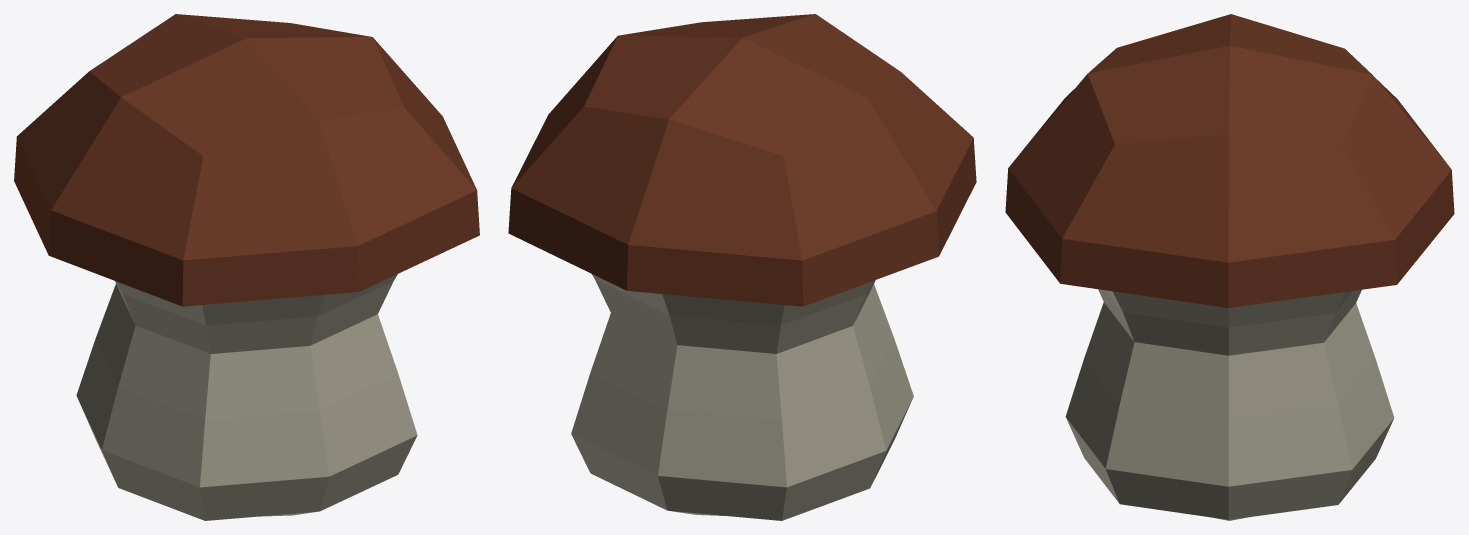
Rendered from Mushroom_1.gltf.
3 views of the same model, side by side, from view 1: azimuth 30°, elevation 25°; view 2: azimuth 150°, elevation 25°; view 3: azimuth 270°, elevation 25° (orthographic).
Visible parts, largest first — view 1: Mushroom_1; view 2: Mushroom_1; view 3: Mushroom_1.
Boxes of the visible parts, <box> form: Mushroom_1: <box>14,14,479,520</box>; Mushroom_1: <box>508,14,976,520</box>; Mushroom_1: <box>1005,14,1454,520</box>.
Size of the model in its own units: 0.1085 by 0.1186 by 0.1085.
